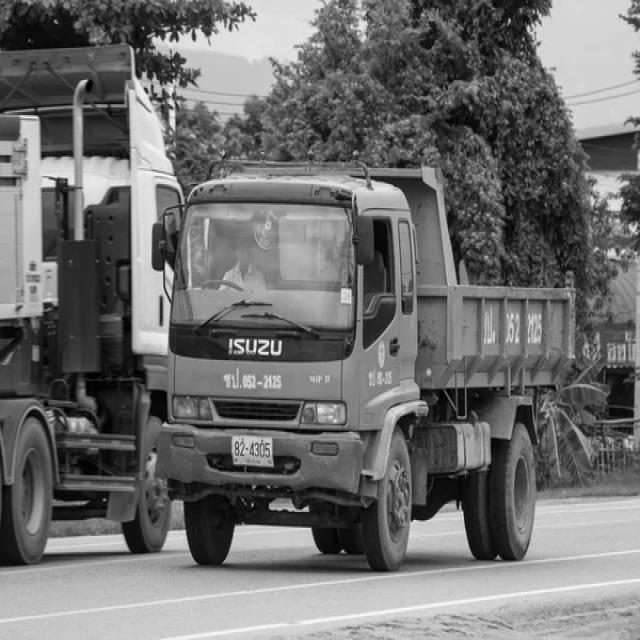Truck: (153, 160, 577, 571), (0, 45, 181, 564)
